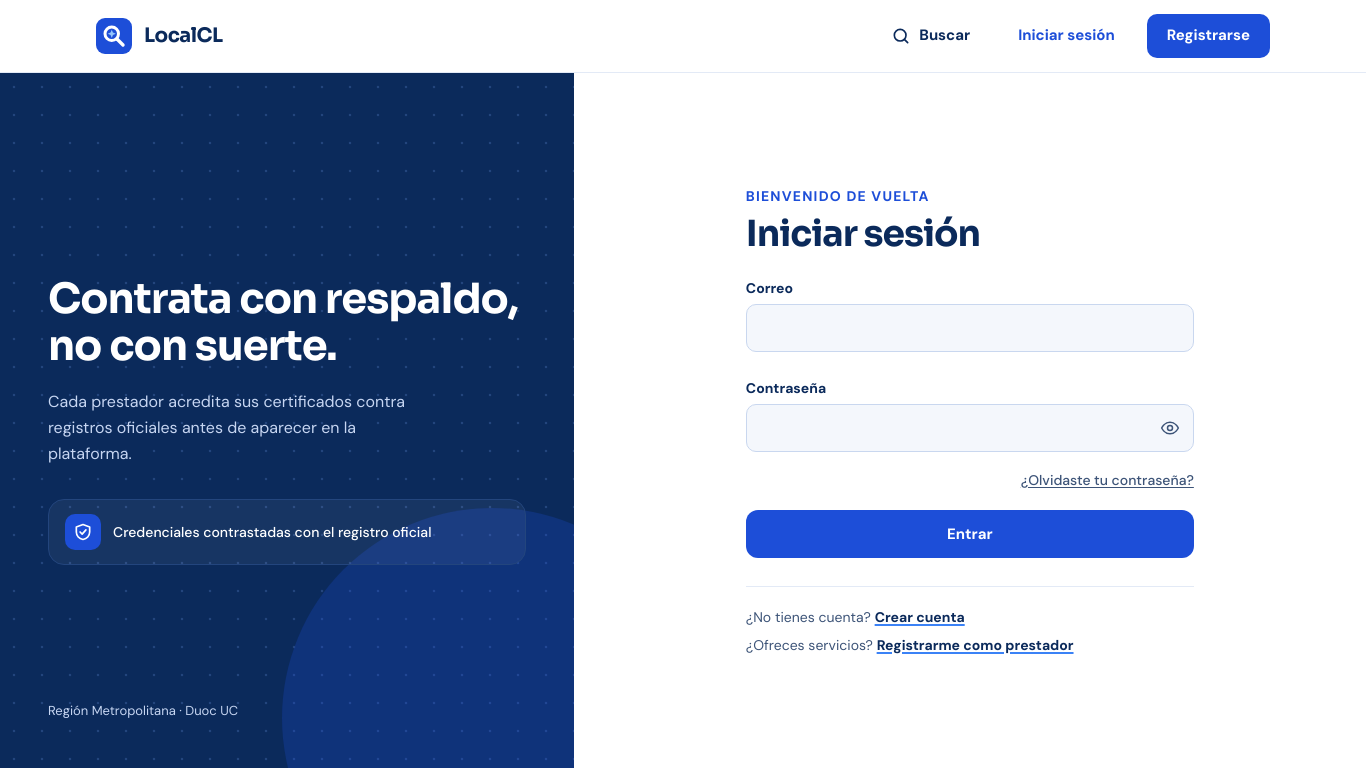
Test: Después de iniciar sesión › con un destino guardado, vuelve a él
The width and height of the screenshot is (1366, 768).
Expected: the button "Entrar" is shown, top-left (746, 510), bottom-right (1194, 558)
In the field labelled "Correo": (970, 328) top-left (746, 304), bottom-right (1194, 352), type "pedro@ejemplo.cl"
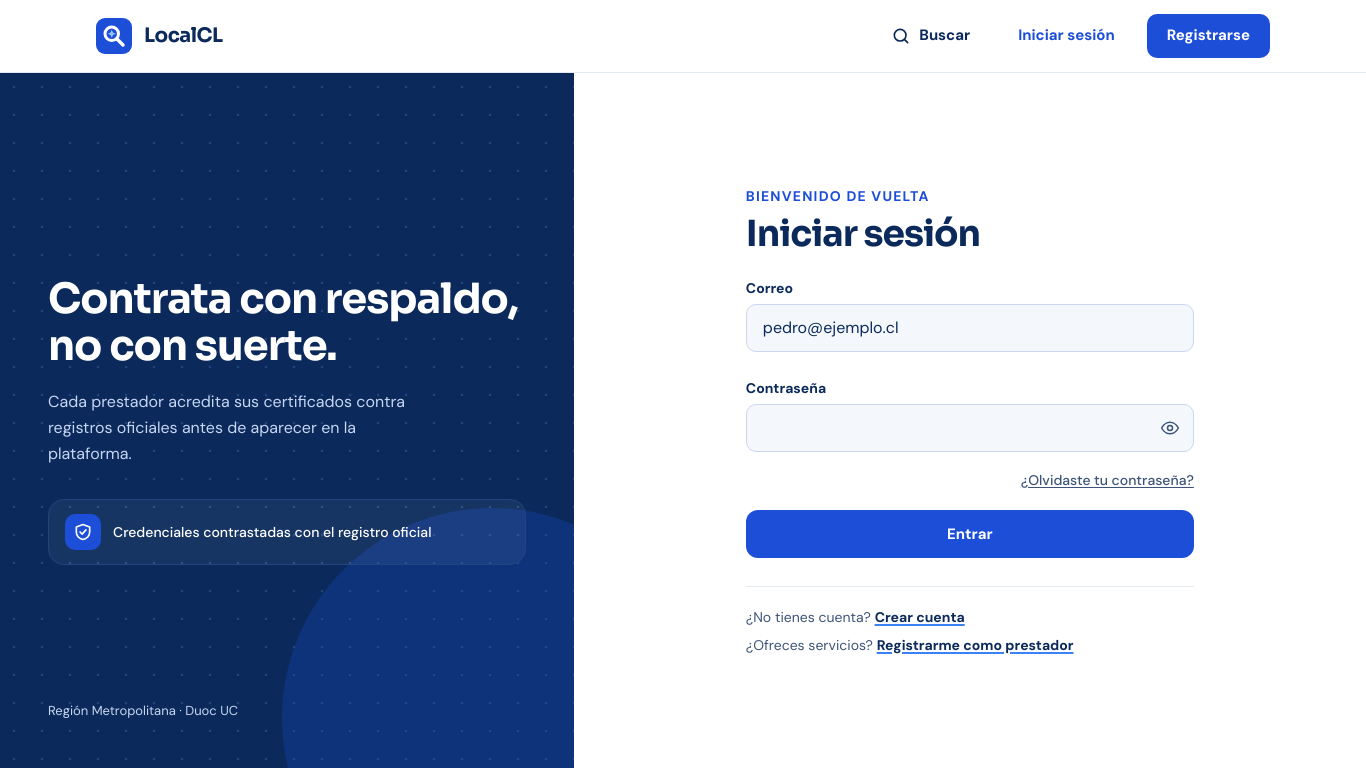
In the password field labelled "Contraseña": (970, 428) top-left (746, 404), bottom-right (1194, 452), type "contrasena-segura-123"
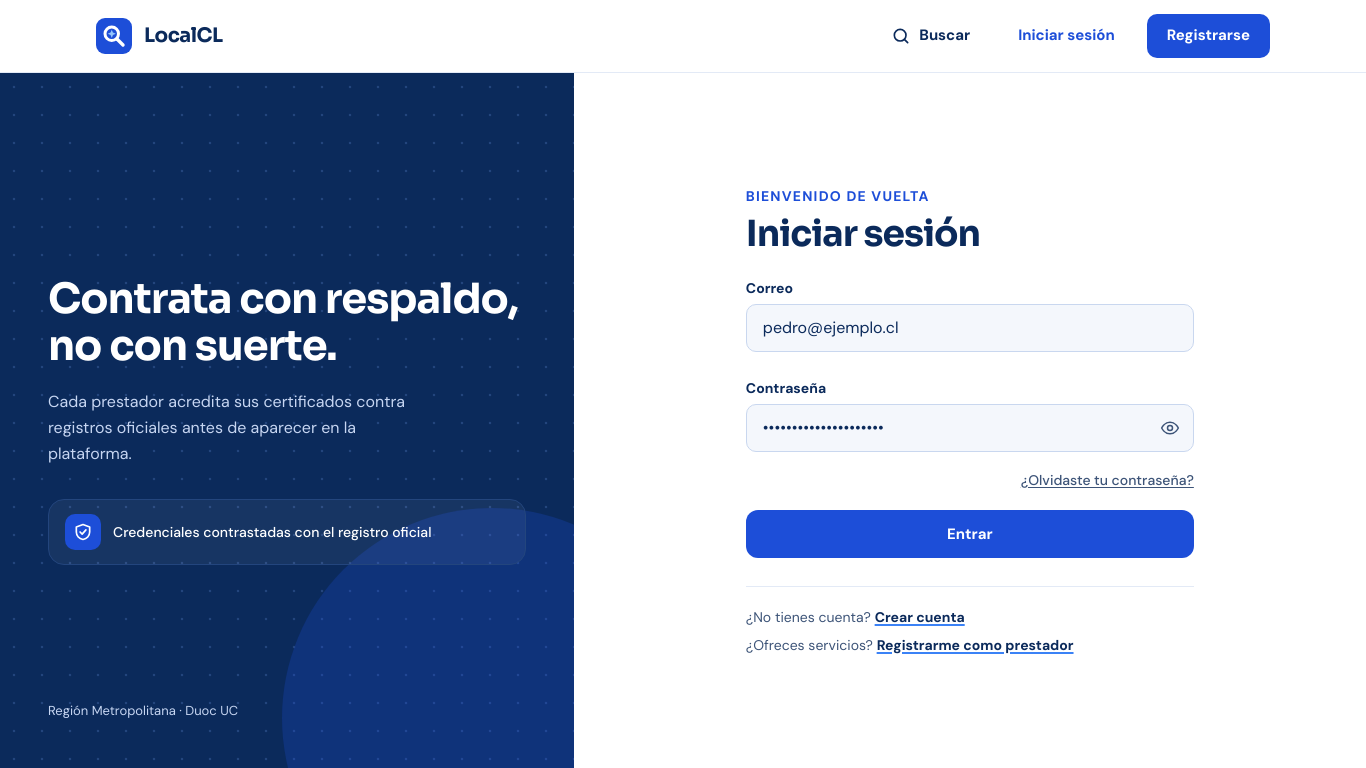
Click the button "Entrar": (970, 534) top-left (746, 510), bottom-right (1194, 558)
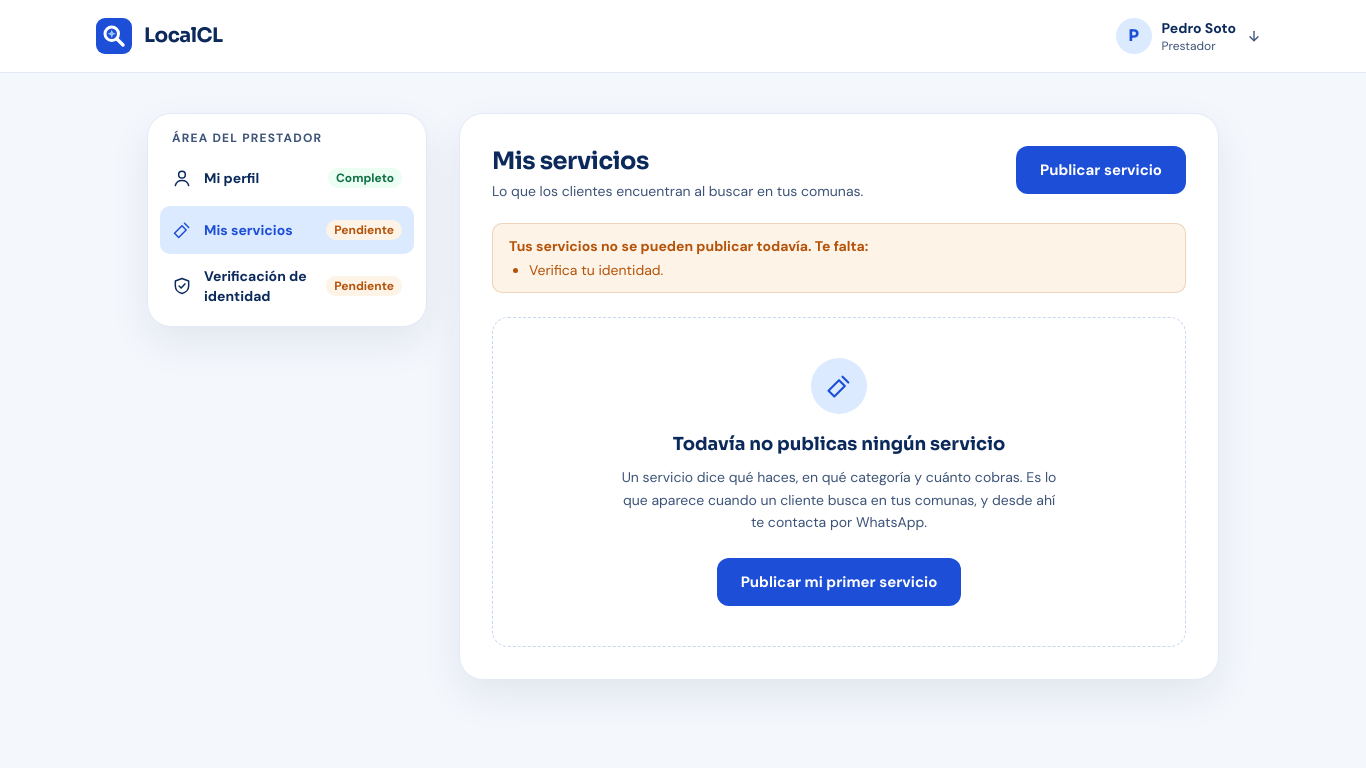
Result: the heading "Mis servicios" is shown at top-left (492, 146), bottom-right (649, 176)
